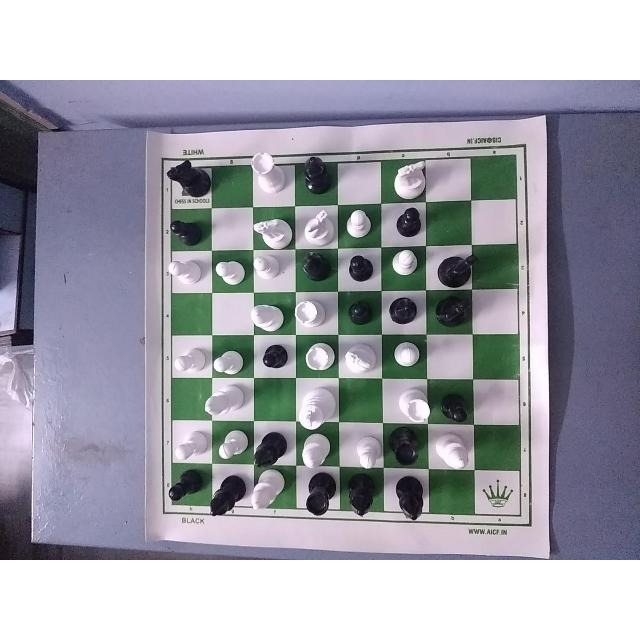black-bishop: (388, 474, 432, 529), (340, 471, 381, 523), (381, 286, 424, 334), (207, 468, 247, 519), (299, 151, 337, 199), (250, 429, 286, 473), (296, 247, 332, 285)
black-knight: (163, 159, 210, 200), (433, 292, 479, 328), (437, 249, 479, 285)
black-pawn: (436, 381, 475, 427), (255, 342, 295, 382), (167, 465, 207, 505), (342, 295, 382, 334), (391, 208, 427, 241), (340, 257, 382, 285), (169, 214, 202, 249)
black-rook: (296, 472, 343, 521), (386, 428, 430, 471)
white-bishop: (428, 429, 477, 477), (247, 467, 293, 513), (296, 429, 336, 473), (200, 383, 245, 419), (248, 301, 286, 334)
white-king: (298, 381, 336, 437)
white-knight: (335, 338, 383, 380), (251, 207, 295, 249), (296, 206, 340, 248), (388, 156, 428, 202)
white-pawn: (385, 243, 424, 289), (389, 339, 428, 379), (164, 252, 208, 287), (170, 341, 210, 377), (213, 425, 250, 463), (169, 428, 206, 464), (212, 251, 248, 287), (209, 343, 243, 379), (352, 431, 385, 467), (340, 205, 376, 238), (249, 251, 284, 283)
white-rook: (293, 295, 336, 335), (249, 150, 286, 196), (296, 338, 335, 381), (401, 386, 434, 430)
